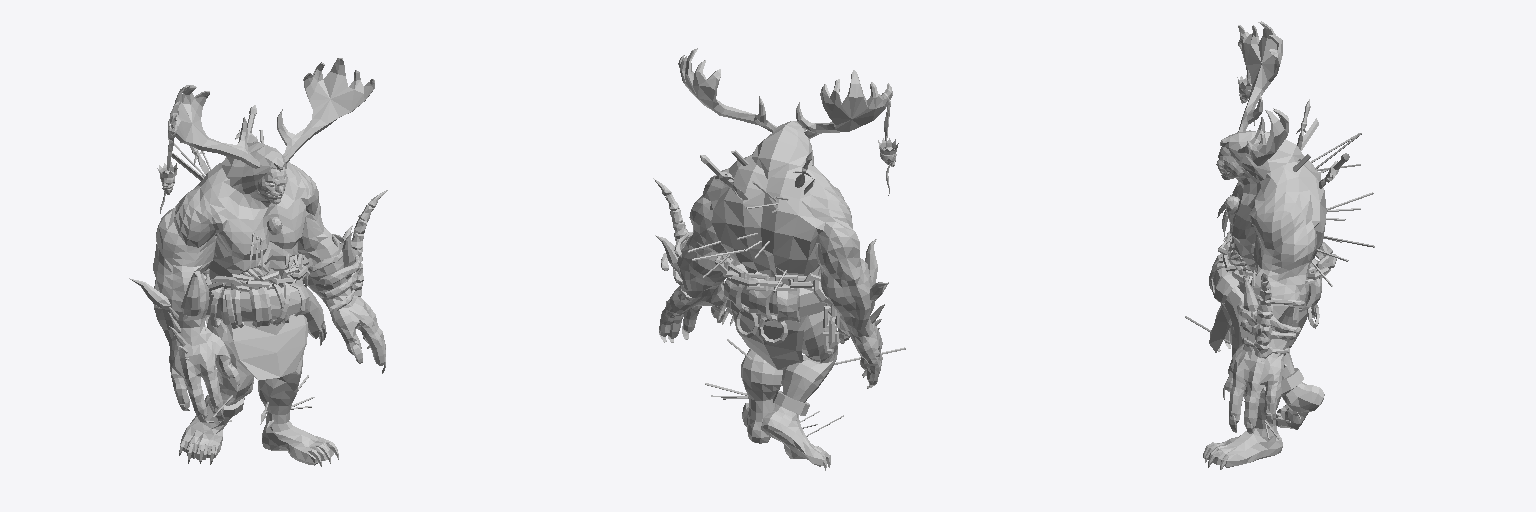
File: walking_000016.obj
3 views of the same model, side by side, from view 1: azimuth 30°, elevation 25°; view 2: azimuth 150°, elevation 25°; view 3: azimuth 270°, elevation 25° (orthographic).
Visible parts, largest first — view 1: MAW; view 2: MAW; view 3: MAW.
Boxes of the visible parts, box(x1,y1,x2,y2) form: MAW: box(129, 58, 387, 466); MAW: box(653, 48, 905, 470); MAW: box(1185, 21, 1374, 469).
Bounding box in the file's own units: 15.47 × 23.55 × 10.3.